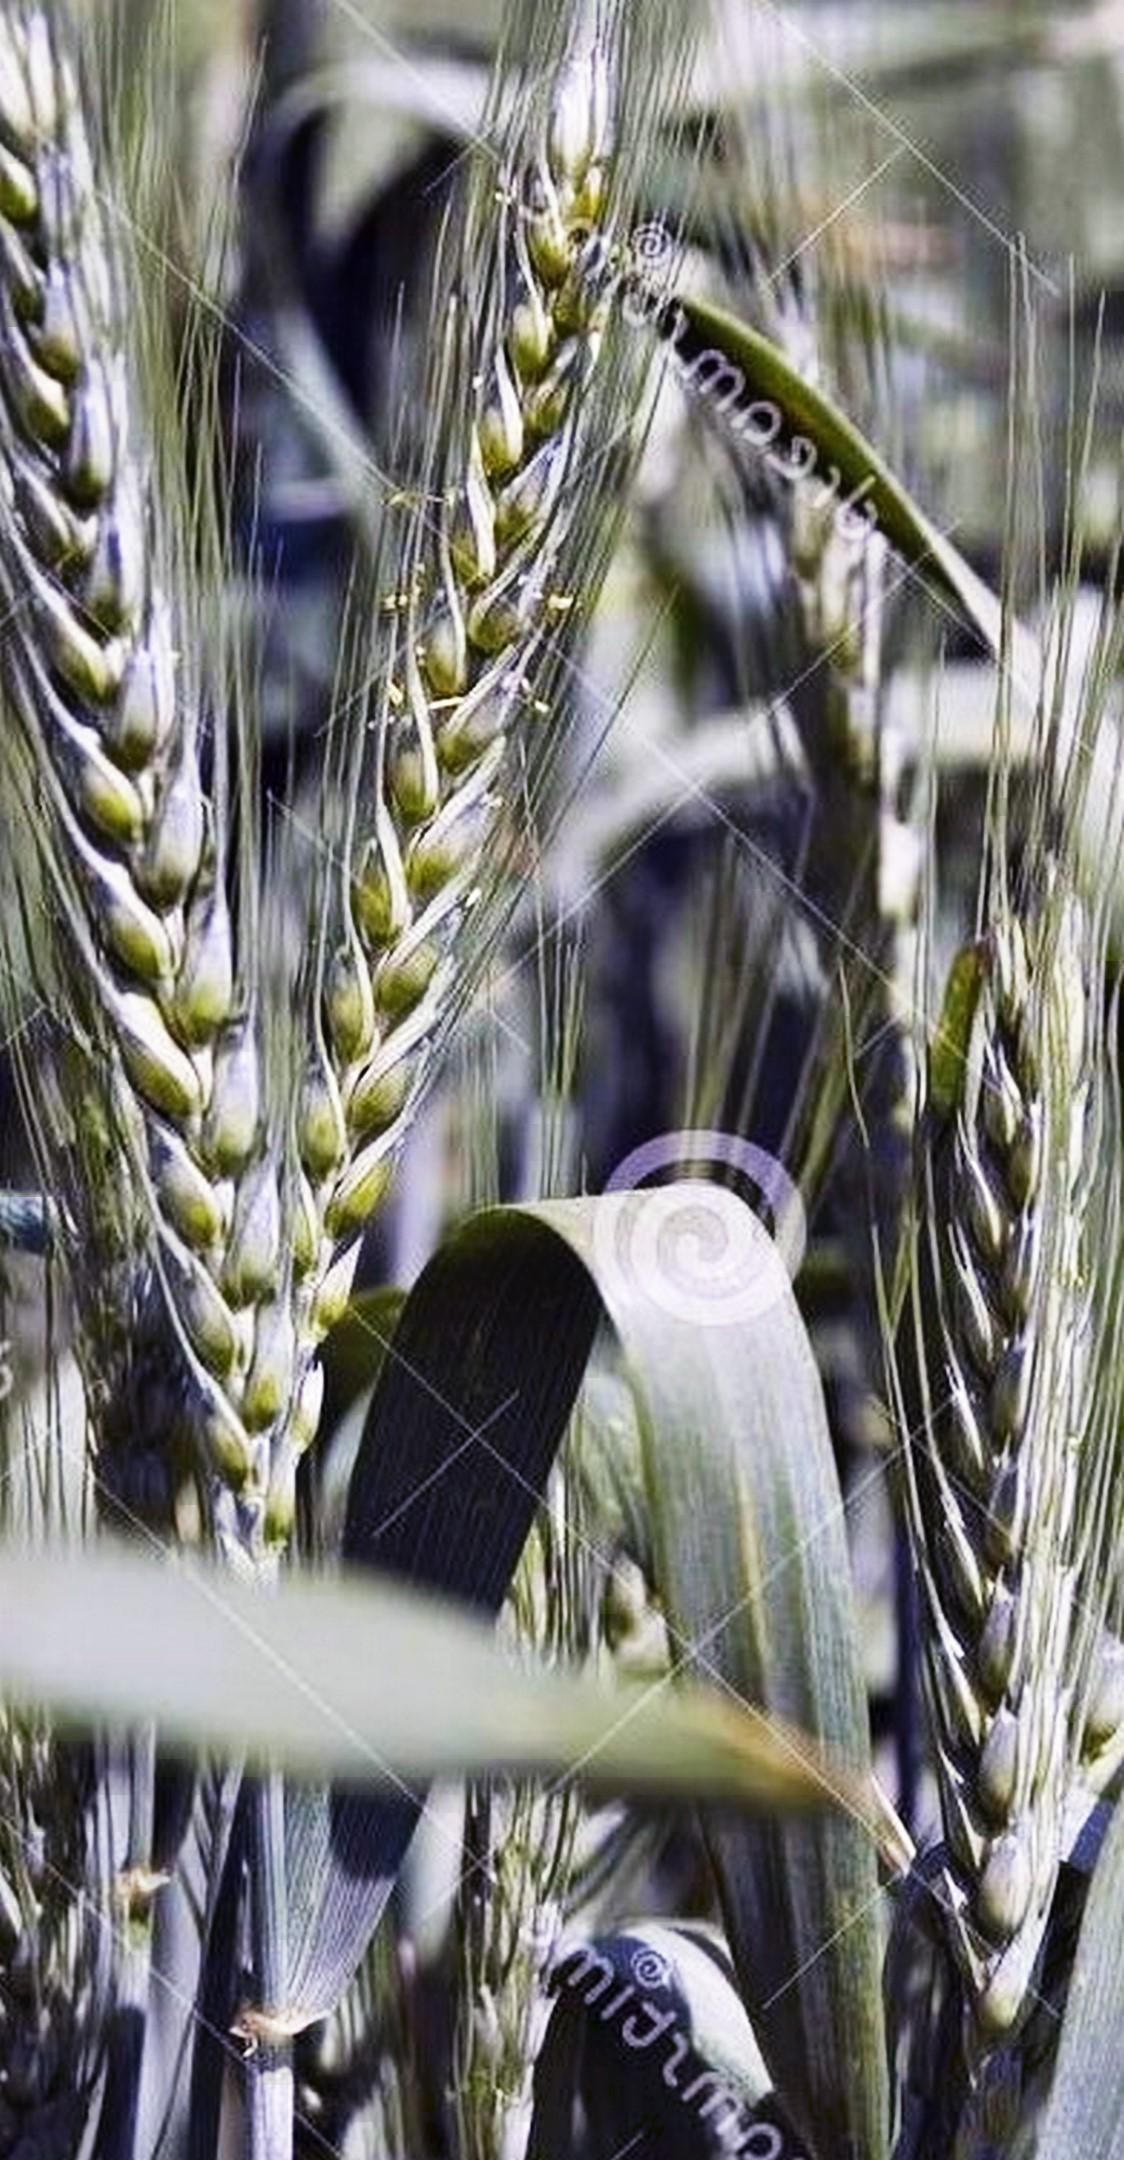Healthy Wheat: (3, 126, 318, 1456), (905, 851, 1120, 2004)
